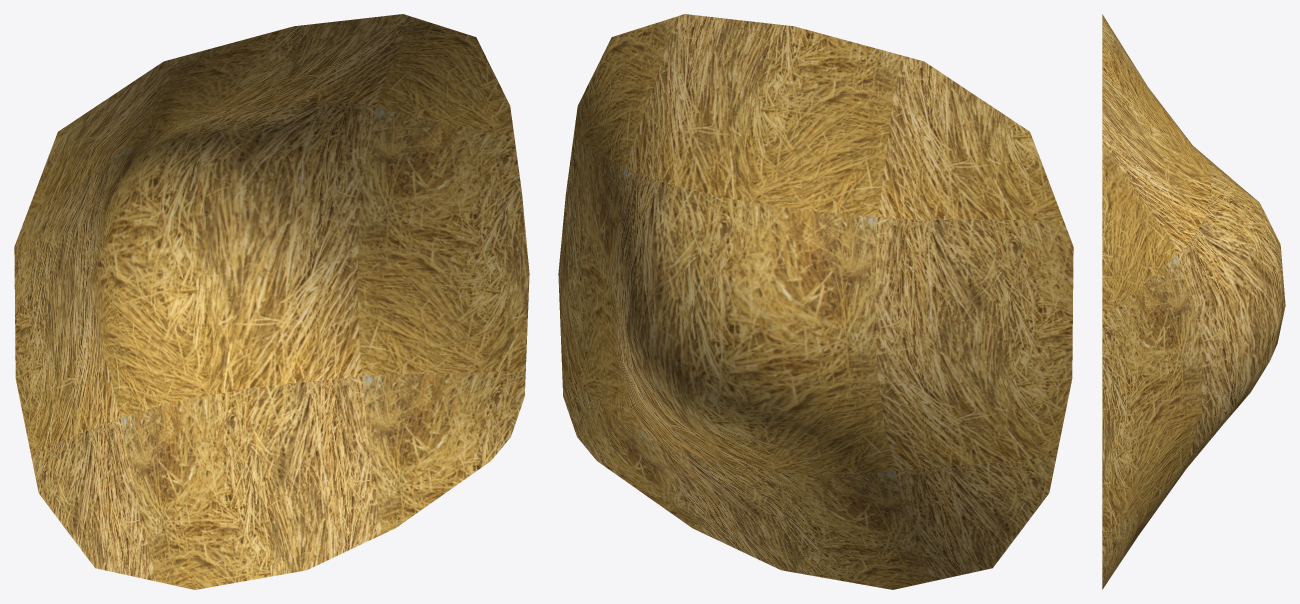
The model's file is Damen.fbx.
3 renders of one model, left to right at view 1: azimuth 30°, elevation 25°; view 2: azimuth 150°, elevation 25°; view 3: azimuth 270°, elevation 25°, orthographic. The views are drawn at different scales.
Visible parts, largest first — view 1: Damen; view 2: Damen; view 3: Damen.
Part boxes in pixels (x1,y1,x2,y2): Damen: (14,14,529,589); Damen: (558,14,1073,589); Damen: (1102,14,1285,589).
Size of the model in its own units: 286 by 290 by 98.65.
